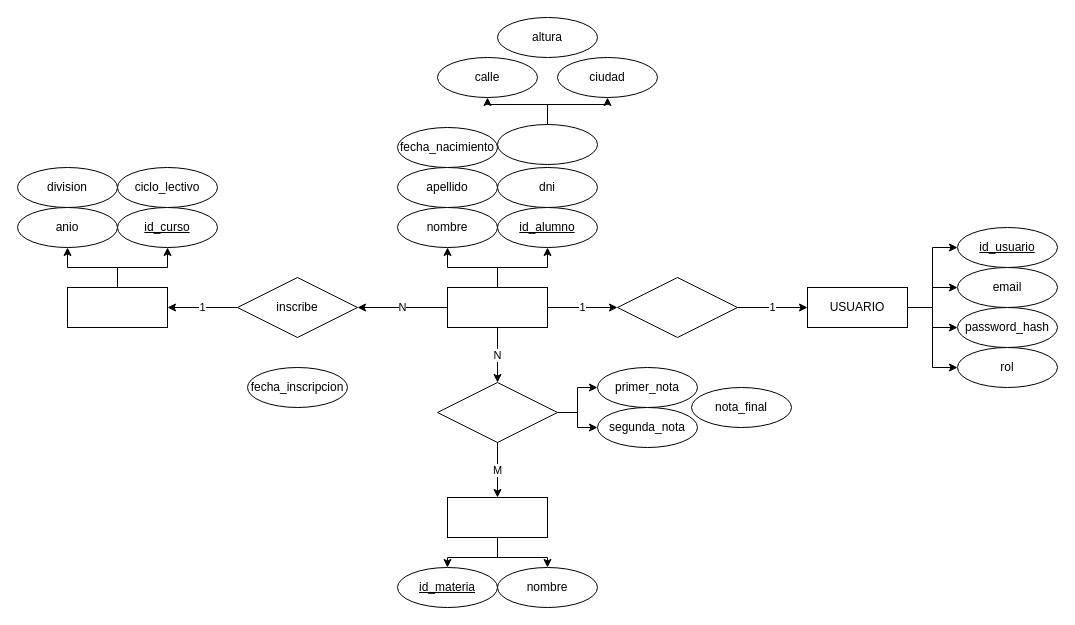
Some shapes in this 1075 by 625 pixel diagram are drawn without their labels. Each missing label, with the centre of its shape:
"ALUMNO" belongs at pixel 497 307.
"cursa" belongs at pixel 497 412.
"CURSO" belongs at pixel 117 307.
"domicilio" belongs at pixel 547 144.
"MATERIA" belongs at pixel 497 517.
"tiene" belongs at pixel 677 307.
